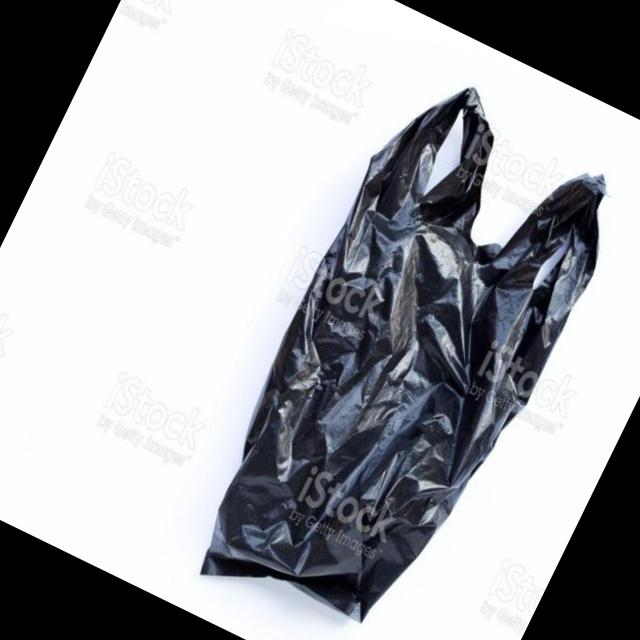KantongPlastik: (170, 57, 640, 640)
